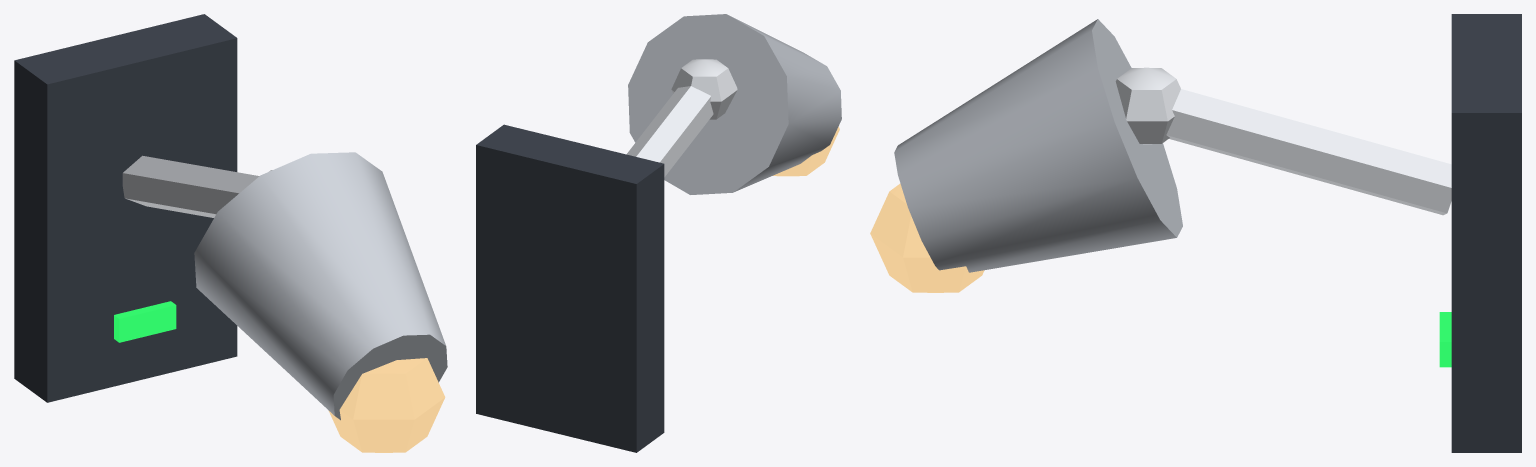
File: lamp_reading_light.glb
3 renders of one model, left to right at view 1: azimuth 30°, elevation 25°; view 2: azimuth 150°, elevation 25°; view 3: azimuth 270°, elevation 25°, orthographic. The views are drawn at different scales.
Visible parts, largest first — view 1: lamp_reading_light; view 2: lamp_reading_light; view 3: lamp_reading_light.
Boxes of the visible parts, x1,y1,x2,y2 form: lamp_reading_light: [14, 14, 447, 452]; lamp_reading_light: [476, 14, 841, 452]; lamp_reading_light: [870, 14, 1521, 452].
Bounding box in the file's own units: 0.1 × 0.1755 × 0.278.
